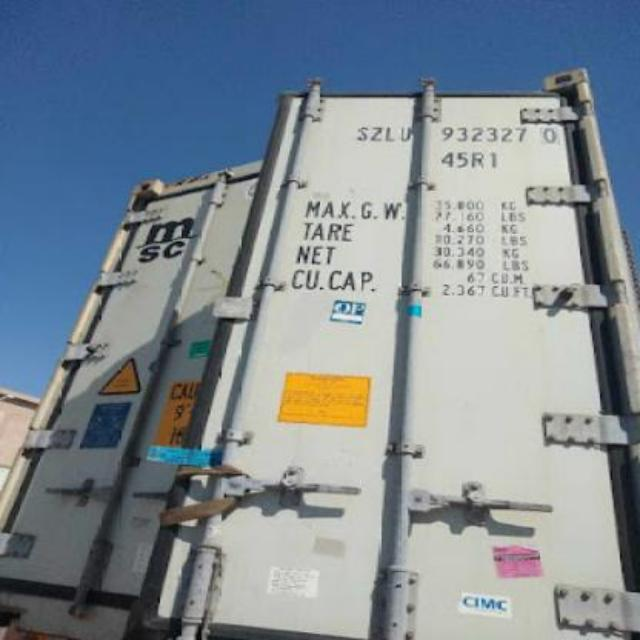0: (540, 124, 560, 146)
2: (470, 119, 486, 145), (500, 122, 516, 148)
3: (484, 122, 500, 146), (456, 116, 469, 144)
7: (512, 118, 532, 148)
9: (438, 120, 454, 144)
L: (382, 121, 398, 142)
S: (350, 120, 368, 144)
U: (398, 120, 414, 148)
Z: (366, 120, 384, 150)
